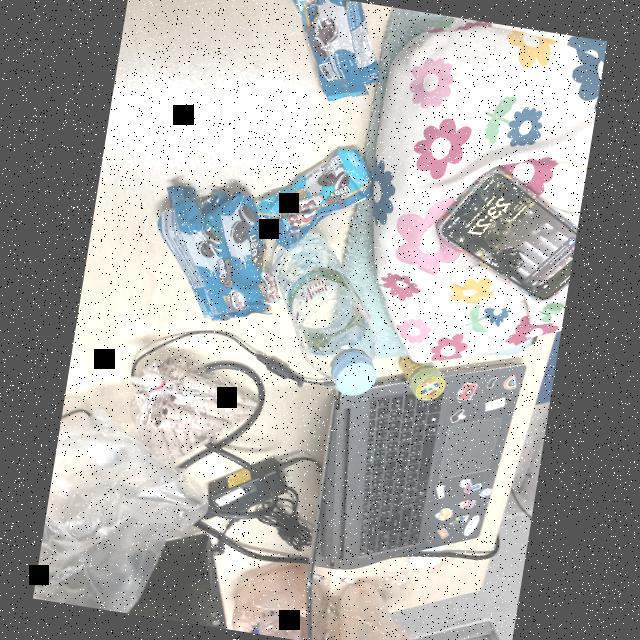plastic_bag: (32, 404, 222, 624), (226, 554, 331, 640), (319, 575, 427, 640)
plastic_bottle: (248, 220, 398, 403)
plastic_bottle_cap: (319, 346, 376, 412)
snack_bag: (118, 346, 259, 485), (144, 168, 249, 330), (255, 138, 378, 262), (270, 0, 395, 112), (192, 182, 287, 322)
